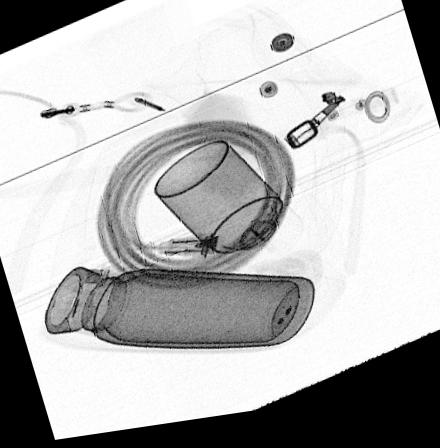Sprayer: (152, 147, 305, 284)
